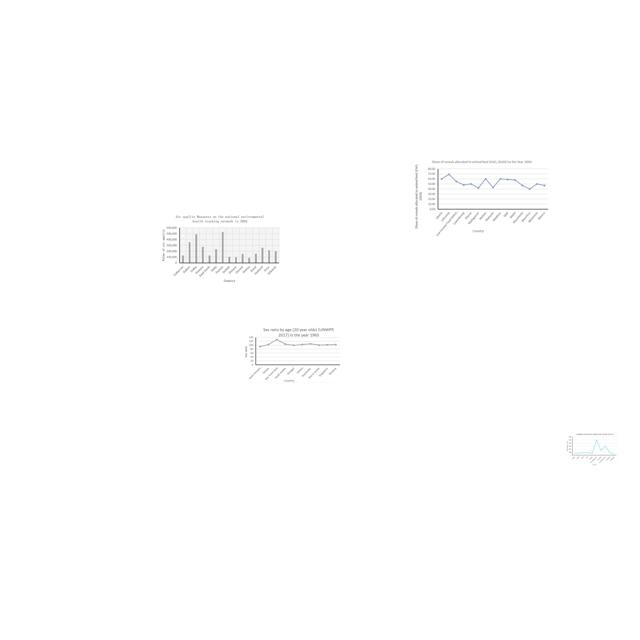Graph: (411, 157, 551, 239), (158, 212, 282, 284), (243, 327, 342, 383), (565, 432, 618, 467)
